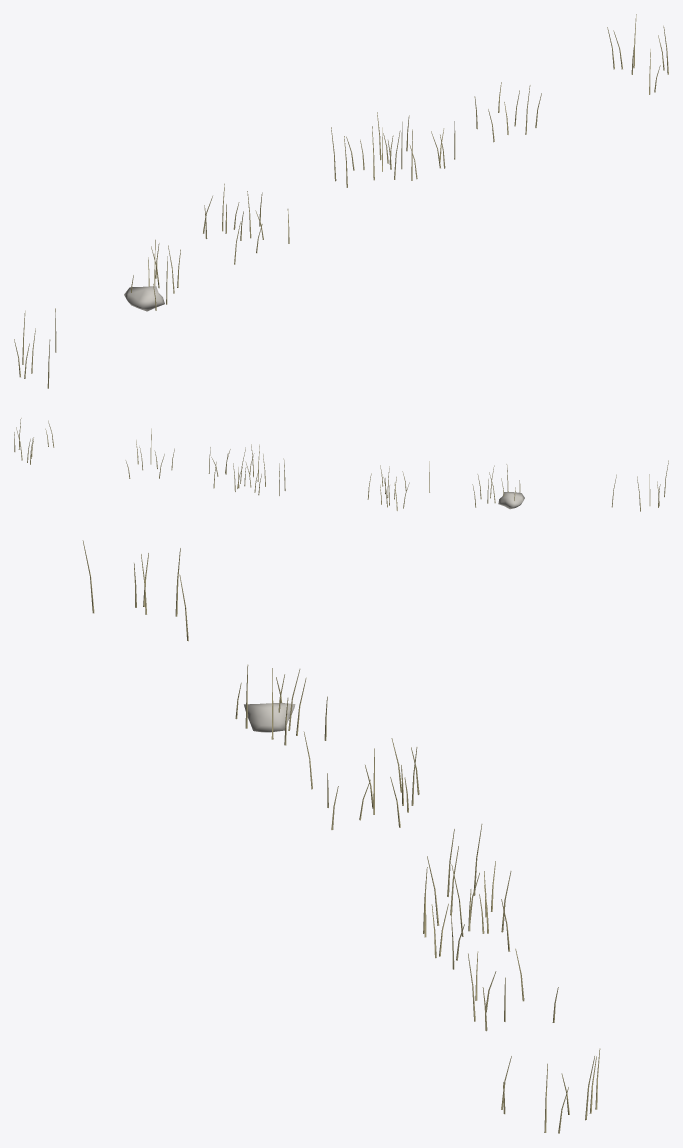
3 views of the same model, one above another, from view 1: azimuth 30°, elevation 25°; view 2: azimuth 150°, elevation 25°; view 3: azimuth 270°, elevation 25° (orthographic). The views are drawn at different scales.
Visible parts, largest first — view 1: p1_m3; view 2: p1_m3; view 3: p1_m3.
Part boxes in pixels (left/top/right/bottom): p1_m3: left=14, top=14, right=668, bottom=388; p1_m3: left=14, top=418, right=668, bottom=511; p1_m3: left=82, top=540, right=600, bottom=1133.
Bounding box in the file's own units: 27.96 × 2.01 × 11.53.
